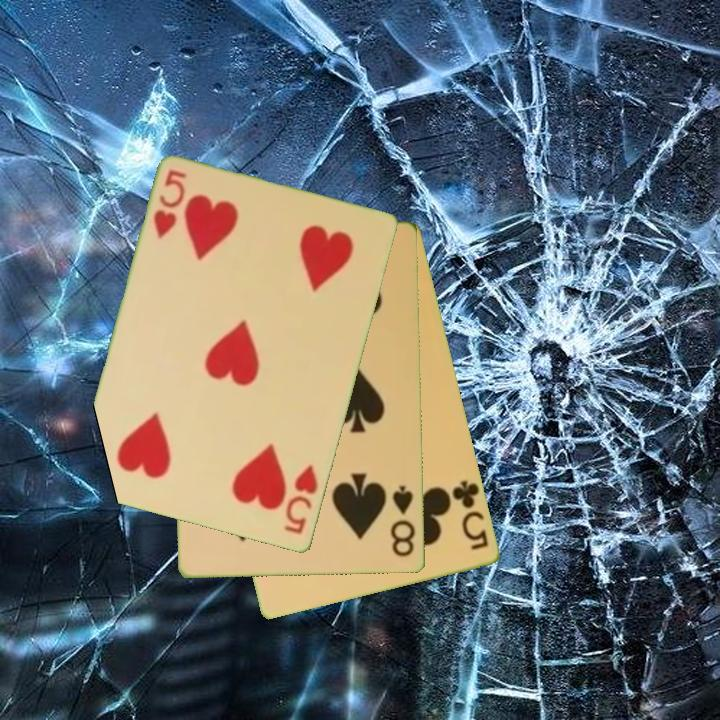5c: (449, 477, 492, 553)
5h: (280, 461, 322, 538), (150, 166, 190, 243)
8s: (387, 483, 419, 560)
